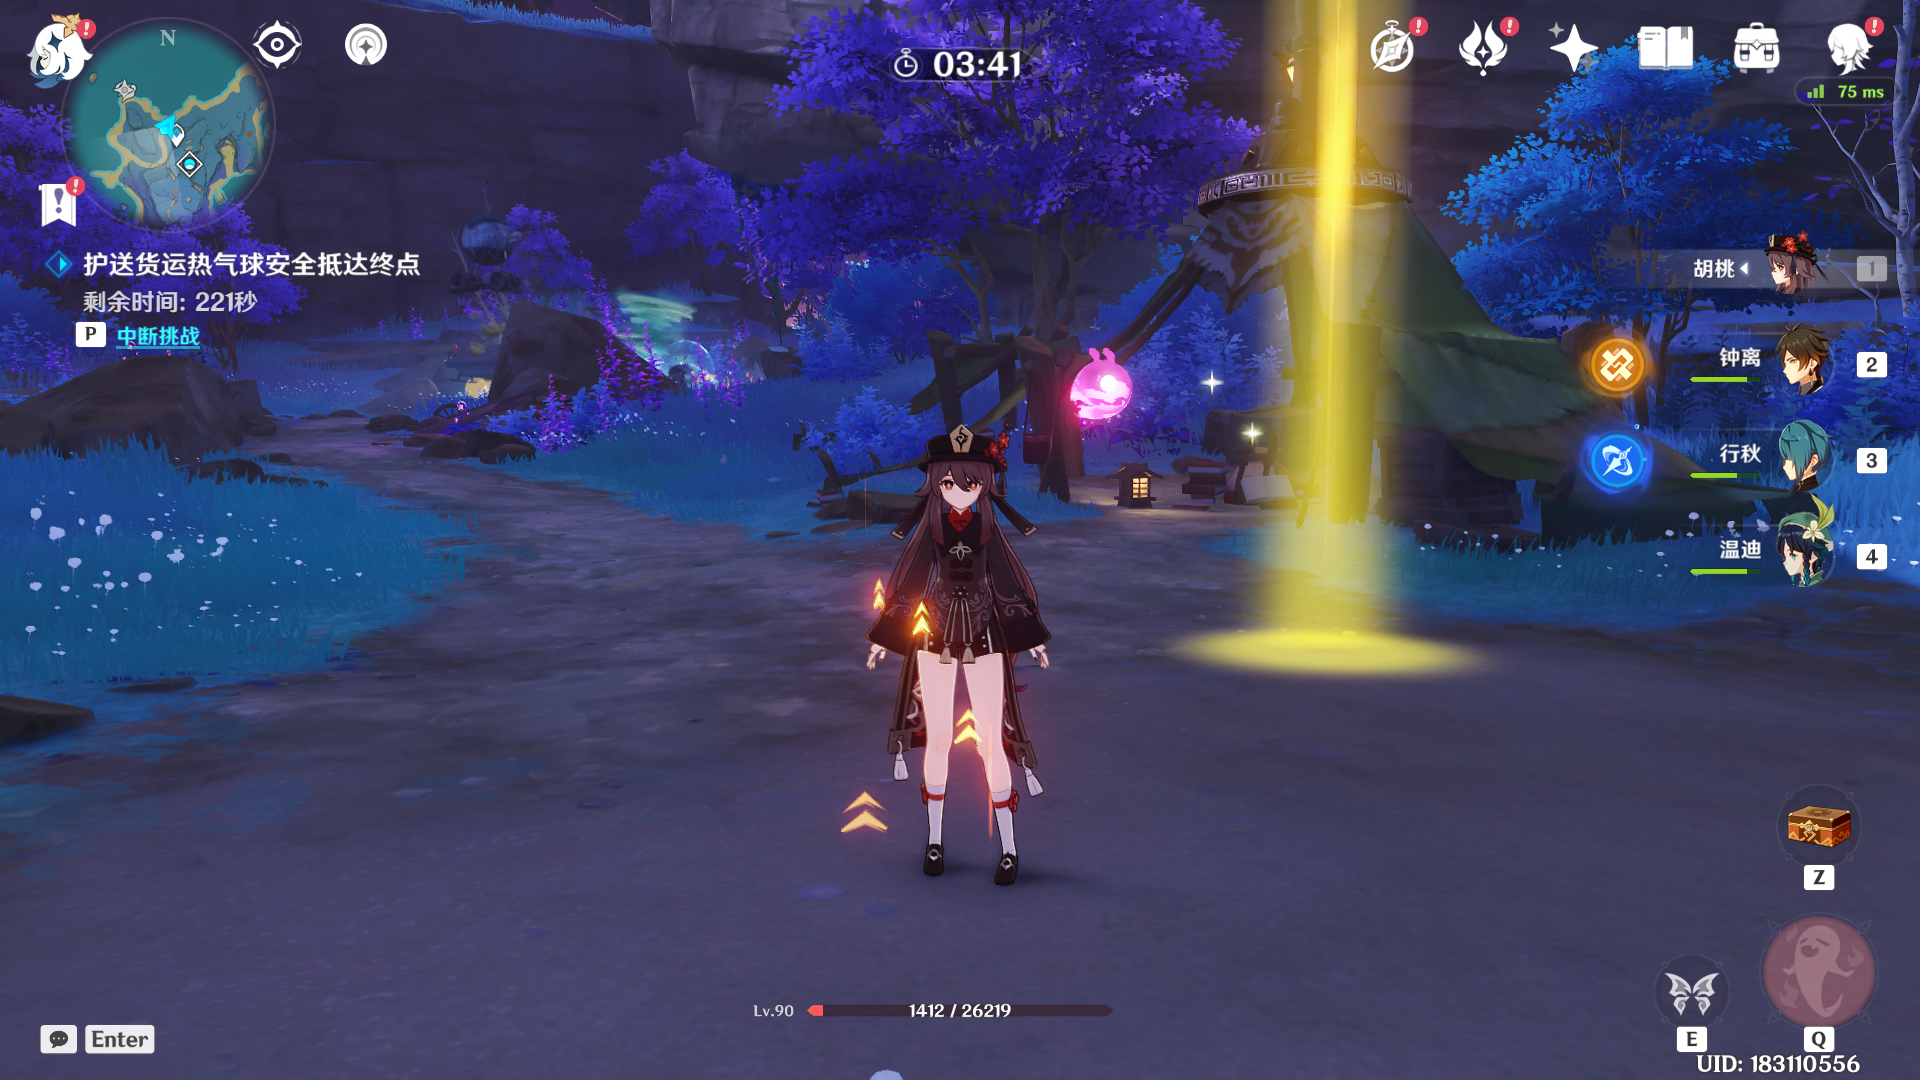character: (823, 402, 1120, 949)
